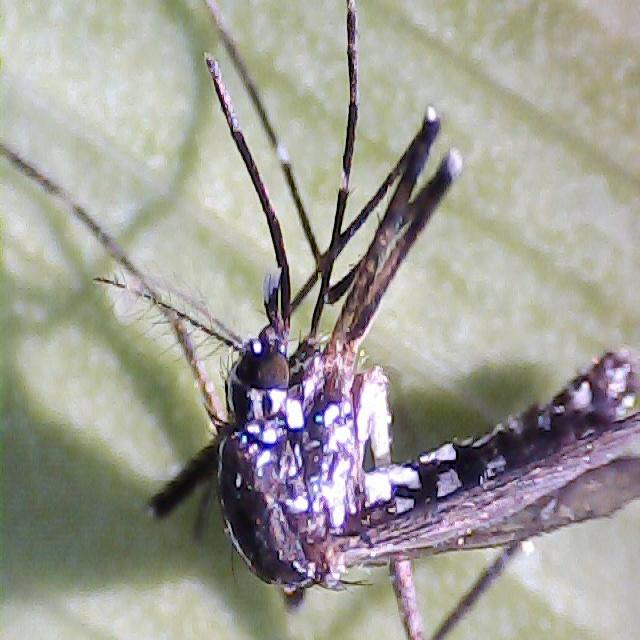albopictus: (79, 9, 549, 594)
